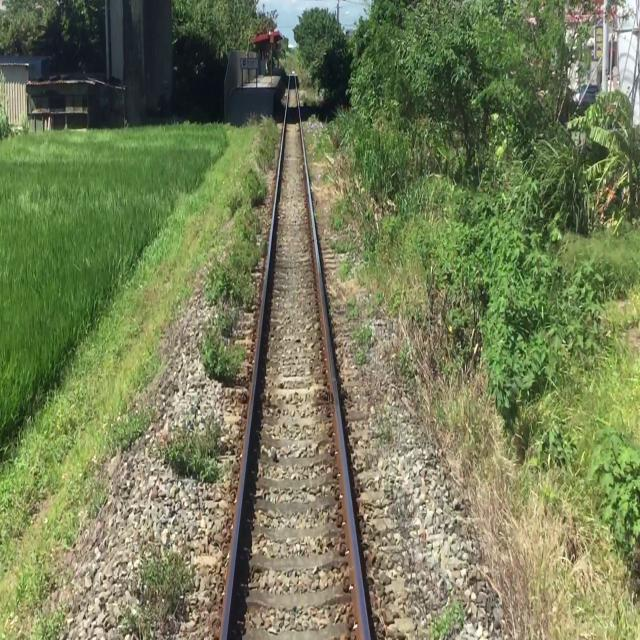rail-track: (220, 76, 372, 639)
